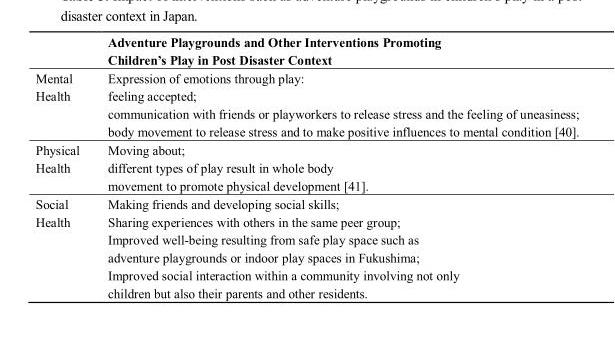table: (34, 34, 578, 300)
table column: (92, 34, 578, 300), (34, 34, 92, 300)
table column header: (34, 34, 578, 68)
table row: (34, 194, 578, 300), (34, 68, 578, 140), (34, 140, 578, 194), (34, 34, 578, 68)
